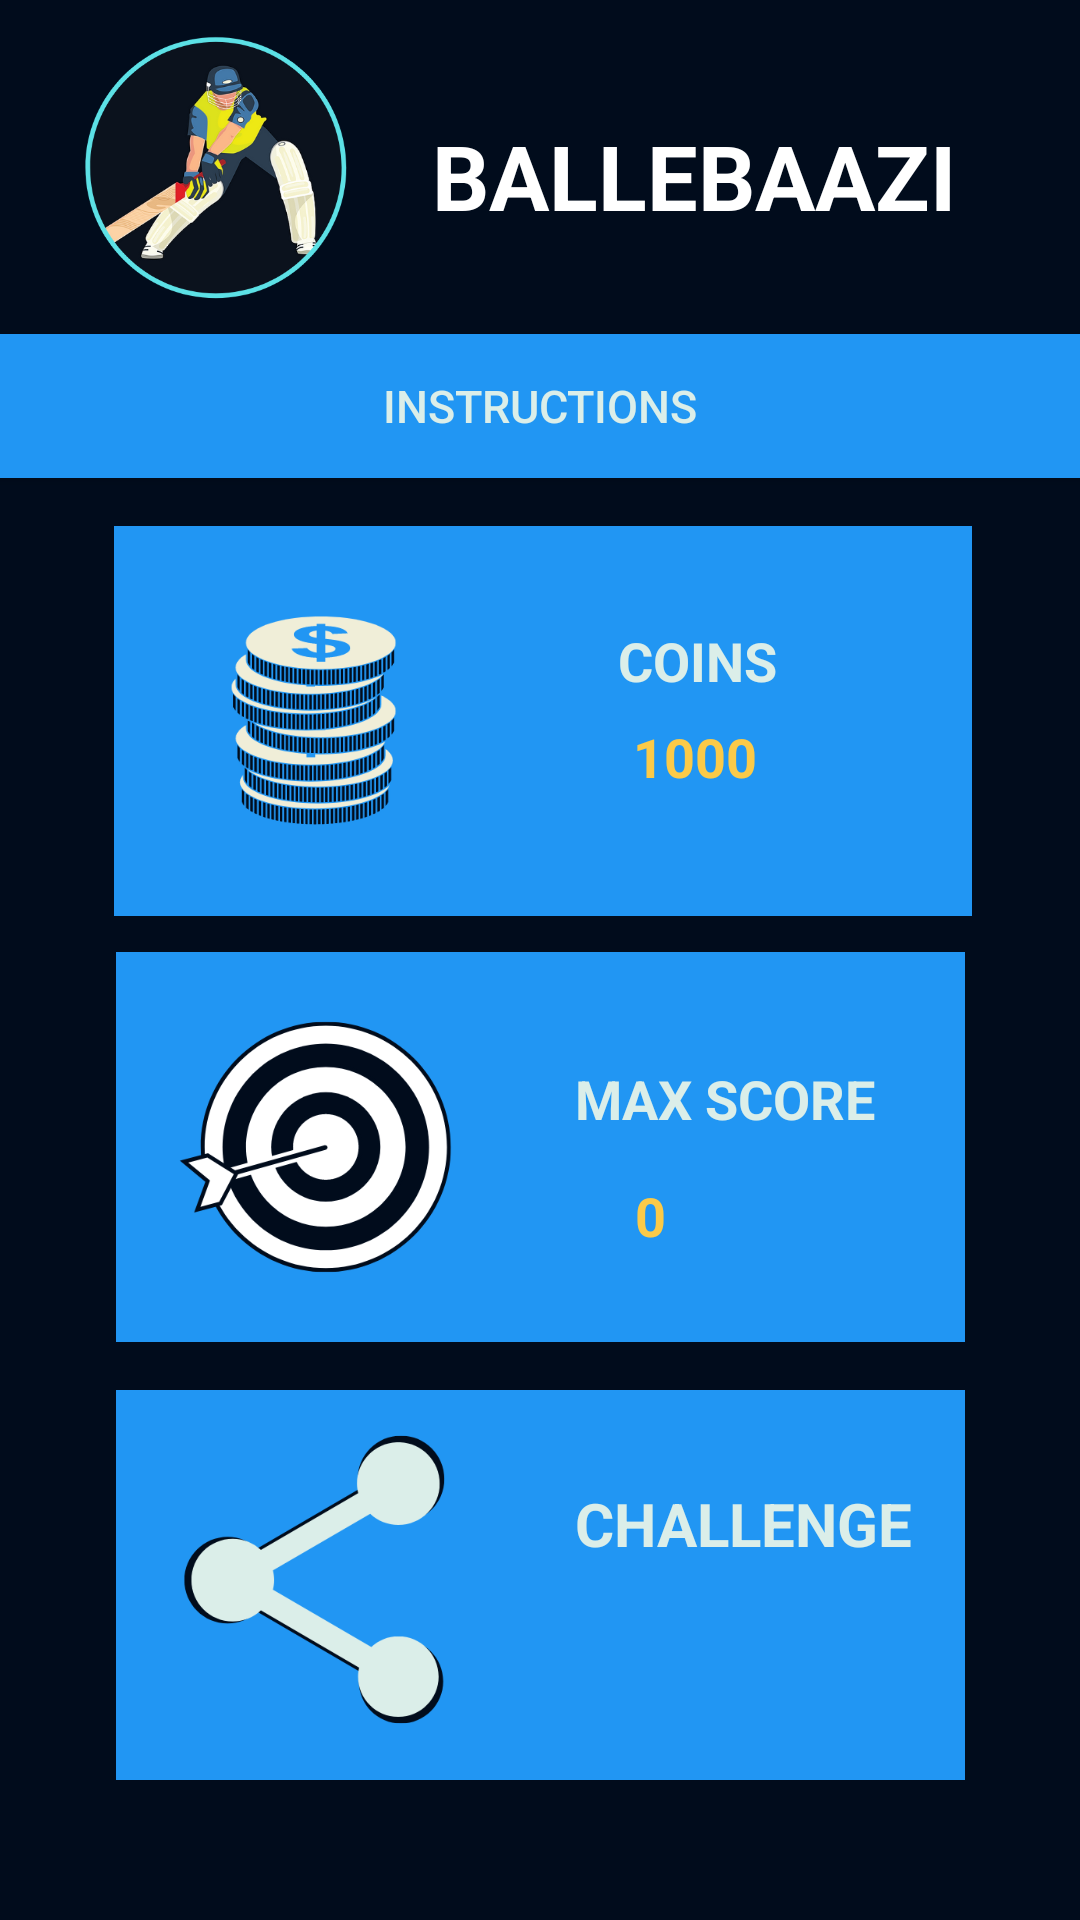

Named icons in this screenshot (1080px×1920px) and their centers, point (x, y):
head: point (216, 167)
